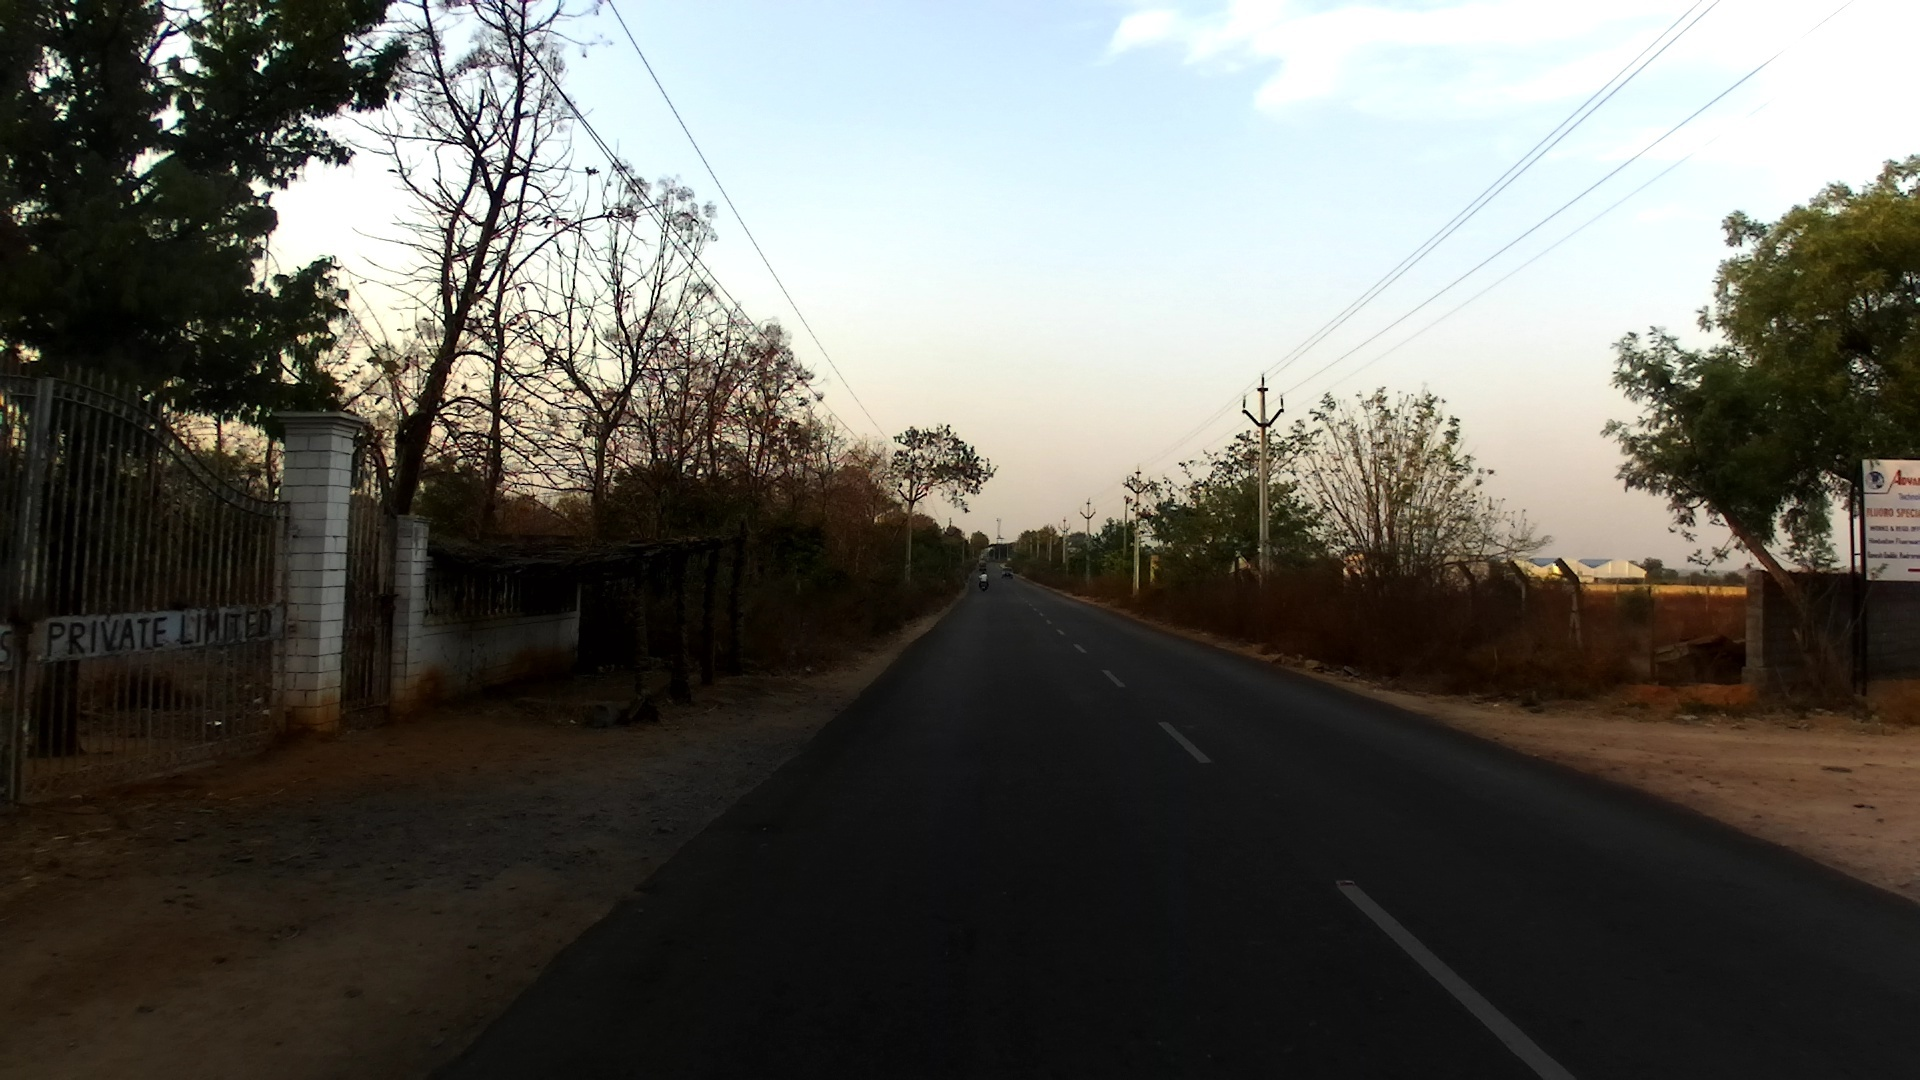autorickshaw: (977, 557, 986, 573)
car: (999, 566, 1016, 579)
motorcycle: (979, 575, 989, 593)
rider: (976, 571, 991, 590)
